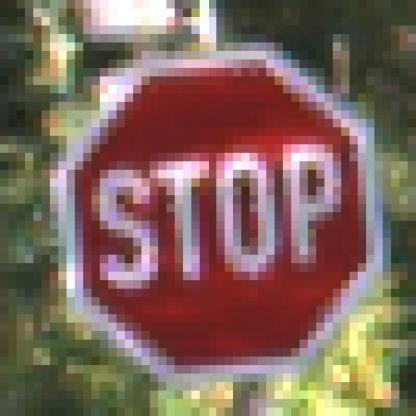Stop: (56, 53, 377, 378)
